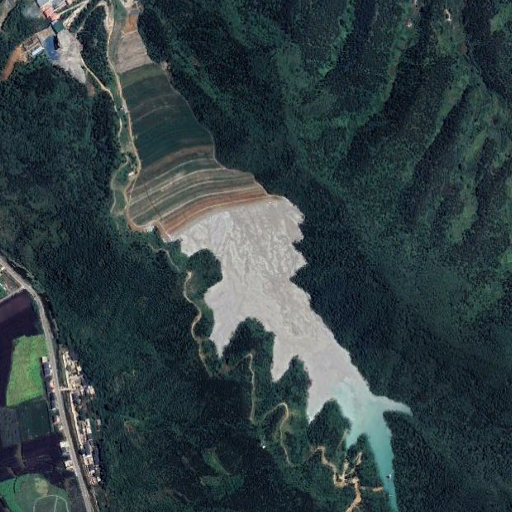tp: (117, 15, 413, 512)
